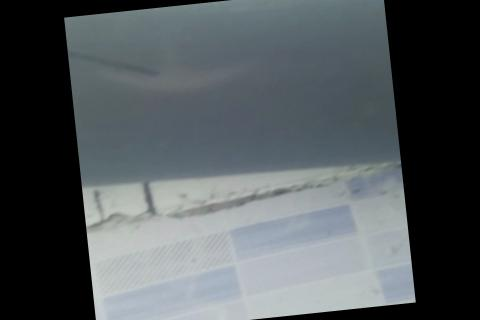keretakan: (67, 35, 161, 87)
